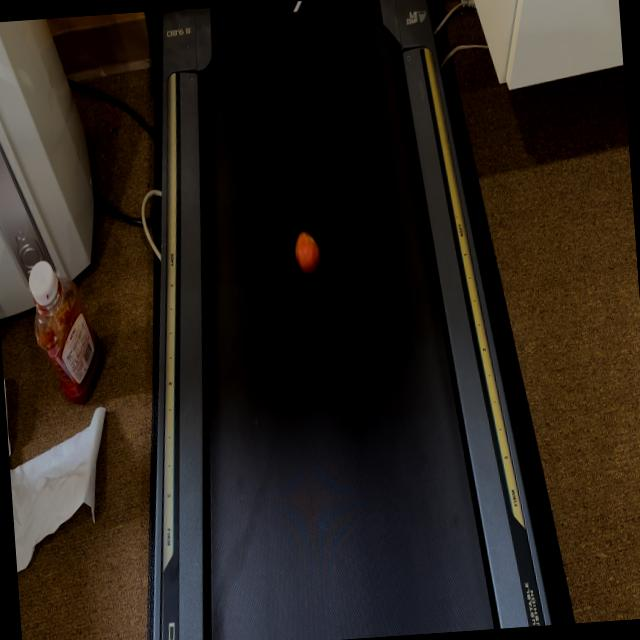Trash: (293, 231, 322, 275)
